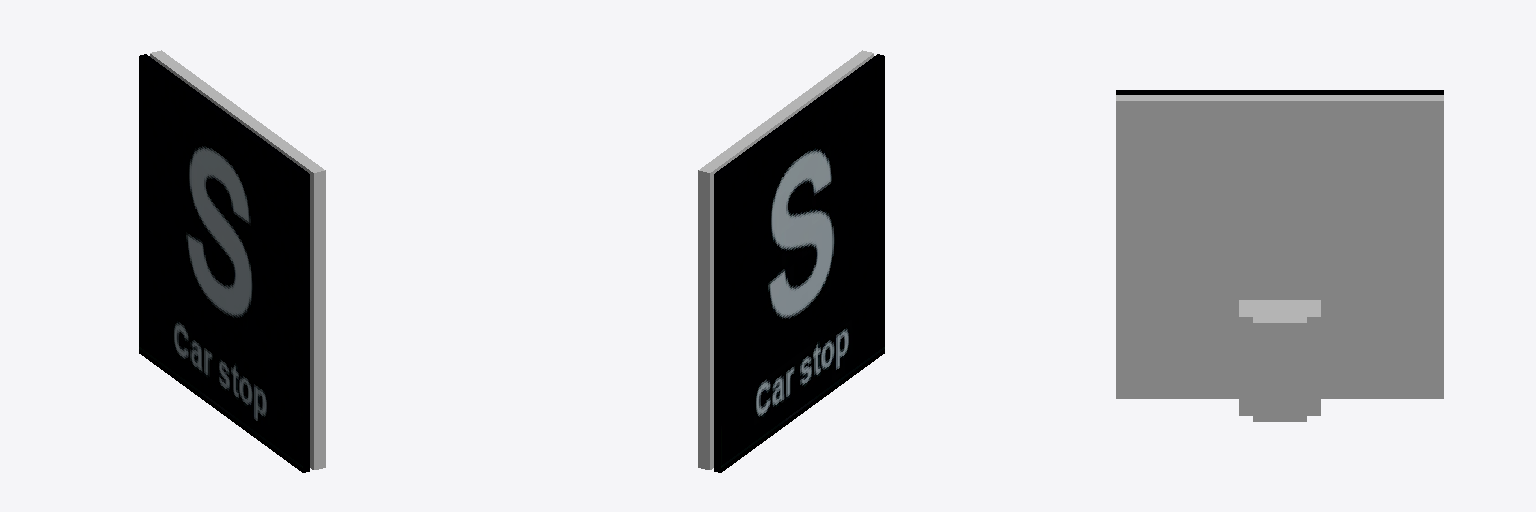
The picture shows the model from 3 angles: view 1: azimuth 30°, elevation 25°; view 2: azimuth 150°, elevation 25°; view 3: azimuth 270°, elevation 25°; orthographic projection.
Visible parts, largest first — view 1: cube; view 2: cube; view 3: cube.
Part boxes in pixels (bbox=[...]): cube: bbox=[139, 50, 325, 472]; cube: bbox=[698, 50, 884, 472]; cube: bbox=[1116, 90, 1443, 421].
Size of the model in its own units: 0.0922 by 0.375 by 0.375.
2 materials, 1 textured.